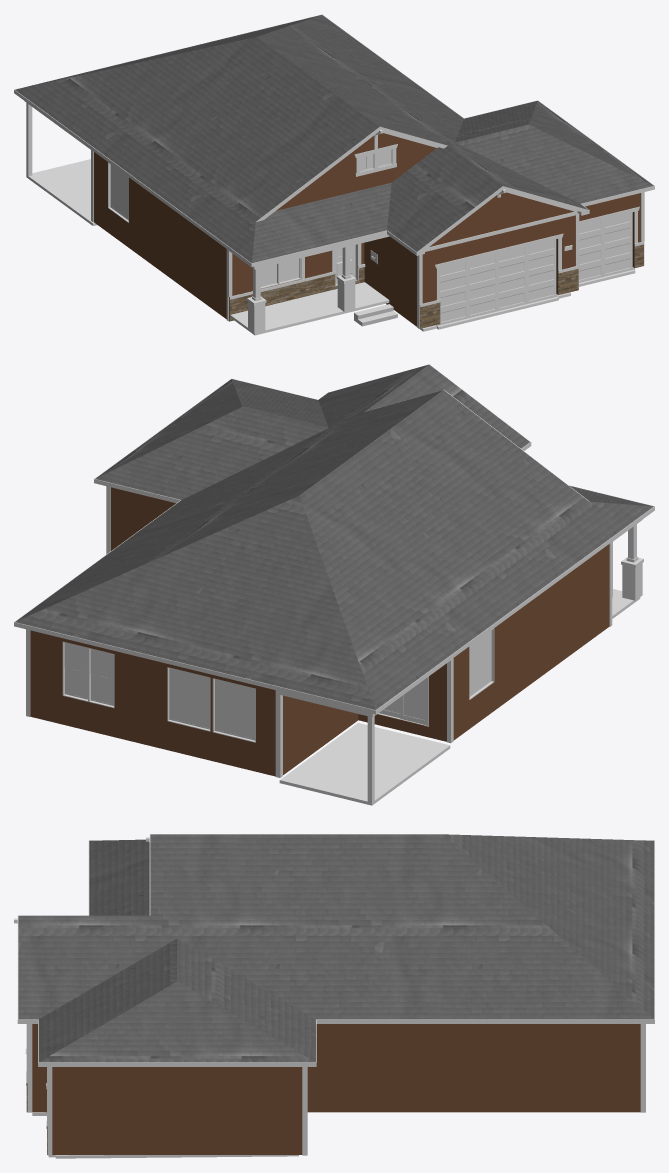
File: 140-1526-dm-craftsman.glb
3 renders of one model, top to bottom at view 1: azimuth 30°, elevation 25°; view 2: azimuth 150°, elevation 25°; view 3: azimuth 270°, elevation 25°, orthographic. The views are drawn at different scales.
Visible parts, largest first — view 1: Basic Roof Wood Rafter 4" - Asphalt Shingle - Insulated_13c9, Basic Roof Wood Rafter 4" - Asphalt Shingle - Insulated_fc55, Basic Roof Wood Rafter 4" - Asphalt Shingle - Insulated_f22a, Basic Roof Wood Rafter 4" - Asphalt Shingle - Insulated_5227, Craftsman - BSB Exterior - Overhead Garage Door - Clopa_c83a, Fascia Fascia-Flat 1x6 w/12" Soffit Bd [4406295], Basic Wall BSB Exterior - Stud_5.5" - Sheathing_0.5" - _ee27, Basic Wall BSB Exterior - Stud_1.5" - Sheathing_0.5" - _8531, Basic Wall BSB Exterior - Stud_5.5" - Sheathing_0.5" - _47e0, Basic Wall BSB Exterior - Stud_3.5" - Sheathing_0.5" - _6c46, Basic Wall BSB Exterior - Stud_3.5" - Sheathing_0.5" - _949f, Craftsman - BSB Exterior - Overhead Garage Door - Clopa_799e (+22 smaller); view 2: Basic Roof Wood Rafter 4" - Asphalt Shingle - Insulated_13c9, Basic Roof Wood Rafter 4" - Asphalt Shingle - Insulated_fc55, Basic Wall BSB Exterior - Stud_5.5" - Sheathing_0.5" - _ff8a, Floor BSB Concrete Slab - 4" - Slope Option [4531315], Basic Wall BSB Exterior - Stud_5.5" - Sheathing_0.5" - _ee27, Basic Wall BSB Exterior - Stud_5.5" - Sheathing_0.5" - _47e0, Basic Roof Wood Rafter 4" - Asphalt Shingle - Insulated_f22a, Fascia Fascia-Flat 1x6 w/12" Soffit Bd [4406295], Basic Wall BSB Exterior - Stud_5.5" - Sheathing_0.5" - _cf53, Basic Roof Wood Rafter 4" - Asphalt Shingle - Insulated_5227, BSB Fixed 5060 FX w/ Sill [4252614], BSB Fixed 5060 FX w/ Sill [4252621] (+10 smaller); view 3: Basic Roof Wood Rafter 4" - Asphalt Shingle - Insulated_13c9, Basic Wall BSB Exterior - Stud_5.5" - Sheathing_0.5" - _f144, Basic Roof Wood Rafter 4" - Asphalt Shingle - Insulated_fc55, Basic Wall BSB Exterior - Stud_3.5" - Sheathing_0.5" - _c112, Basic Roof Wood Rafter 4" - Asphalt Shingle - Insulated_f22a, Basic Wall BSB Exterior - Stud_3.5" - Sheathing_0.5" - _85d5, Basic Roof Wood Rafter 4" - Asphalt Shingle - Insulated_5227, Fascia Fascia-Flat 1x6 w/12" Soffit Bd [4406295], Trim - Corner Boards Trim - Corner Boards [4400916], Basic Wall BSB Exterior - Stud_3.5" - Sheathing_0.5" - _587b, Floor BSB Concrete Slab - 4" - Slope Option [4259965].
Boxes of the visible parts, x1,y1,x2,y2 form: Basic Roof Wood Rafter 4" - Asphalt Shingle - Insulated_13c9: [15, 15, 468, 228]; Basic Roof Wood Rafter 4" - Asphalt Shingle - Insulated_fc55: [455, 100, 653, 203]; Basic Roof Wood Rafter 4" - Asphalt Shingle - Insulated_f22a: [387, 142, 588, 251]; Basic Roof Wood Rafter 4" - Asphalt Shingle - Insulated_5227: [205, 182, 391, 262]; Craftsman - BSB Exterior - Overhead Garage Door - Clopa_c83a: [436, 239, 557, 325]; Fascia Fascia-Flat 1x6 w/12" Soffit Bd [4406295]: [14, 14, 654, 266]; Basic Wall BSB Exterior - Stud_5.5" - Sheathing_0.5" - _ee27: [94, 152, 168, 276]; Basic Wall BSB Exterior - Stud_1.5" - Sheathing_0.5" - _8531: [276, 133, 436, 210]; Basic Wall BSB Exterior - Stud_5.5" - Sheathing_0.5" - _47e0: [168, 206, 217, 312]; Basic Wall BSB Exterior - Stud_3.5" - Sheathing_0.5" - _6c46: [423, 215, 575, 303]; Basic Wall BSB Exterior - Stud_3.5" - Sheathing_0.5" - _949f: [364, 236, 422, 326]; Craftsman - BSB Exterior - Overhead Garage Door - Clopa_799e: [579, 212, 633, 282]; Basic Roof Wood Rafter 4" - Asphalt Shingle - Insulated_13c9: [15, 390, 598, 709]; Basic Roof Wood Rafter 4" - Asphalt Shingle - Insulated_fc55: [95, 379, 328, 499]; Basic Wall BSB Exterior - Stud_5.5" - Sheathing_0.5" - _ff8a: [30, 631, 275, 776]; Floor BSB Concrete Slab - 4" - Slope Option [4531315]: [279, 723, 450, 805]; Basic Wall BSB Exterior - Stud_5.5" - Sheathing_0.5" - _ee27: [445, 595, 540, 740]; Basic Wall BSB Exterior - Stud_5.5" - Sheathing_0.5" - _47e0: [540, 552, 598, 676]; Basic Roof Wood Rafter 4" - Asphalt Shingle - Insulated_f22a: [318, 364, 529, 448]; Fascia Fascia-Flat 1x6 w/12" Soffit Bd [4406295]: [14, 364, 654, 714]; Basic Wall BSB Exterior - Stud_5.5" - Sheathing_0.5" - _cf53: [275, 690, 358, 774]; Basic Roof Wood Rafter 4" - Asphalt Shingle - Insulated_5227: [536, 486, 653, 546]; BSB Fixed 5060 FX w/ Sill [4252614]: [167, 667, 210, 731]; BSB Fixed 5060 FX w/ Sill [4252621]: [212, 678, 255, 742]; Basic Roof Wood Rafter 4" - Asphalt Shingle - Insulated_13c9: [150, 834, 654, 1019]; Basic Wall BSB Exterior - Stud_5.5" - Sheathing_0.5" - _f144: [307, 1024, 640, 1112]; Basic Roof Wood Rafter 4" - Asphalt Shingle - Insulated_fc55: [38, 938, 315, 1062]; Basic Wall BSB Exterior - Stud_3.5" - Sheathing_0.5" - _c112: [155, 1067, 302, 1154]; Basic Roof Wood Rafter 4" - Asphalt Shingle - Insulated_f22a: [18, 915, 161, 1019]; Basic Wall BSB Exterior - Stud_3.5" - Sheathing_0.5" - _85d5: [52, 1067, 155, 1154]; Basic Roof Wood Rafter 4" - Asphalt Shingle - Insulated_5227: [89, 839, 149, 915]; Fascia Fascia-Flat 1x6 w/12" Soffit Bd [4406295]: [17, 834, 654, 1066]; Trim - Corner Boards Trim - Corner Boards [4400916]: [26, 1024, 645, 1155]; Basic Wall BSB Exterior - Stud_3.5" - Sheathing_0.5" - _587b: [32, 1024, 46, 1112]; Floor BSB Concrete Slab - 4" - Slope Option [4259965]: [32, 1112, 298, 1158].
Bounding box in the file's own units: 15.79 × 6.61 × 19.25.
3 materials, 2 textured.
